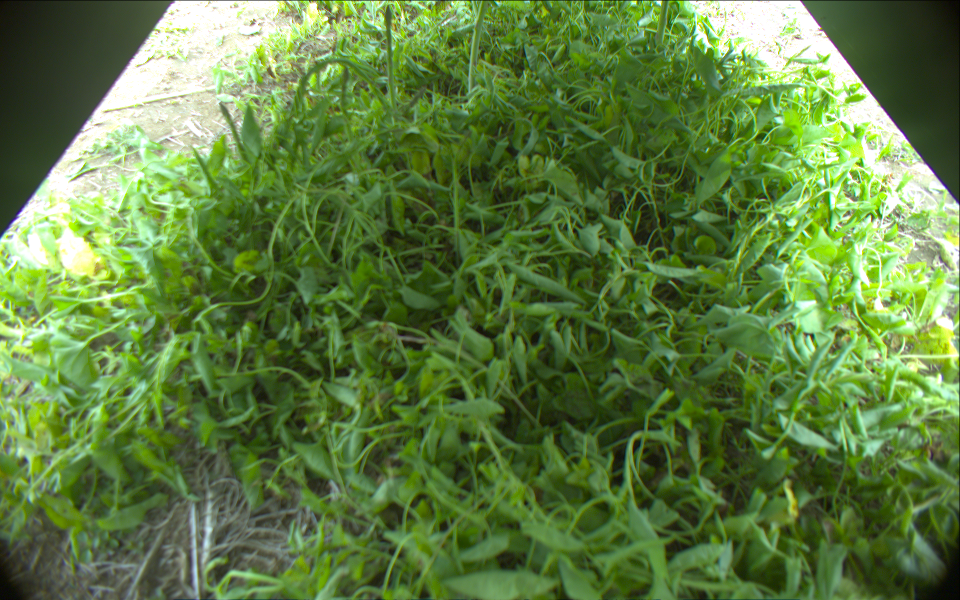aspa: (99, 83, 228, 113), (470, 1, 488, 102), (385, 3, 398, 113), (656, 1, 669, 43)
